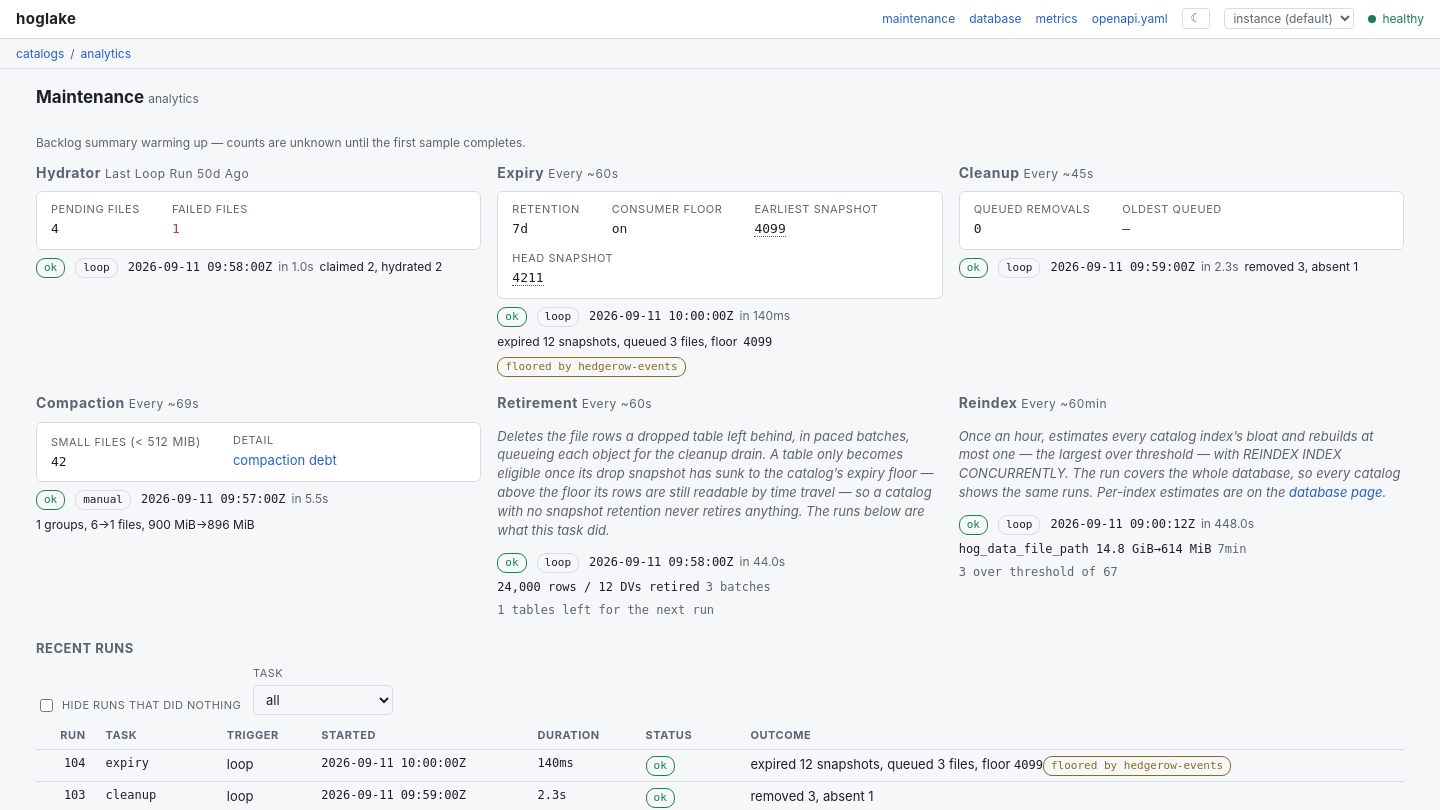
MaintenancePage snapshot id tooltips › dates the expiry floor on hover, and asks for nothing until then
Hover over the text "4099" below "earliest snapshot".
mouse_move(770, 229)  # box [754,221,786,237]
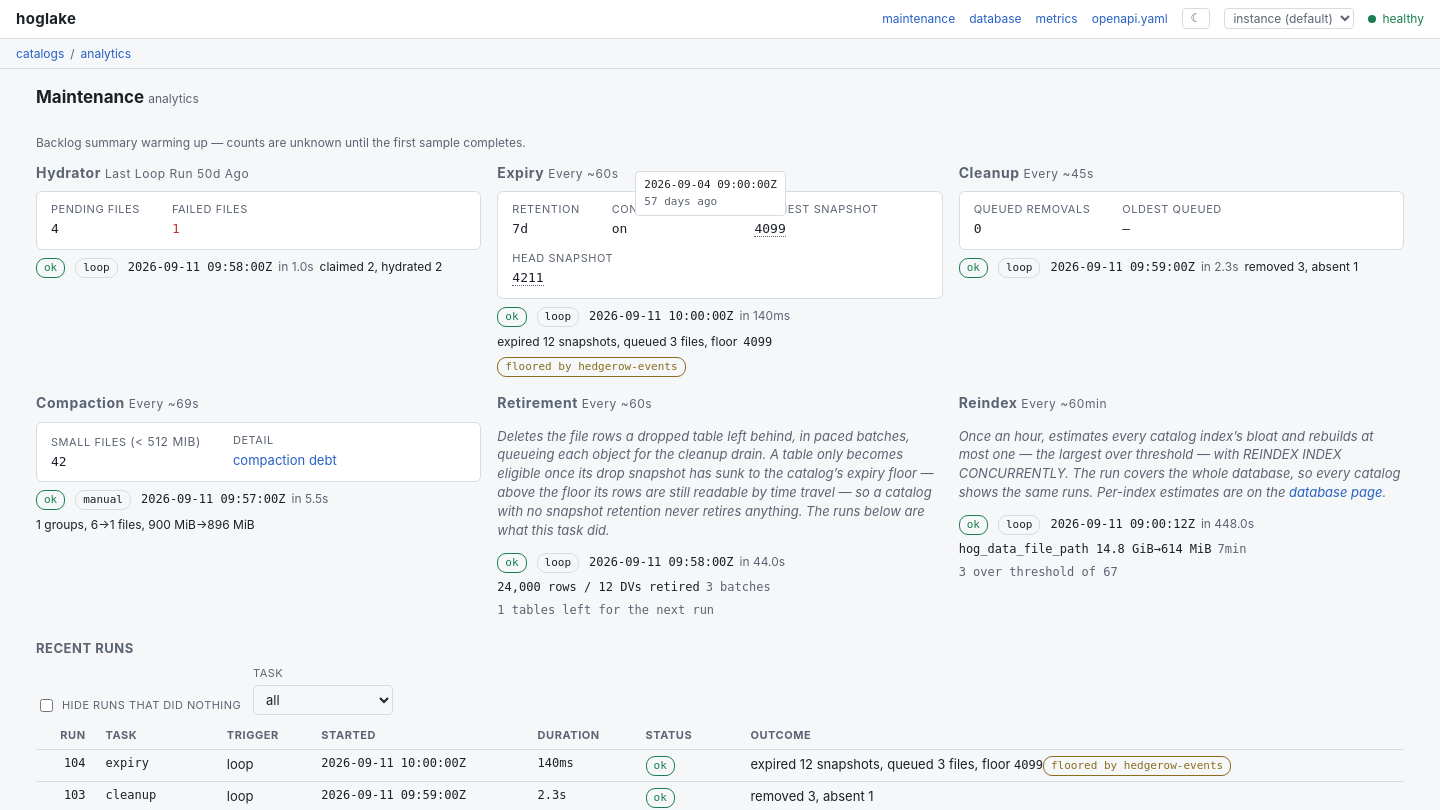
Expected: the tooltip "2026-09-04 09:00:00Z" is shown, [644,178,777,191]
